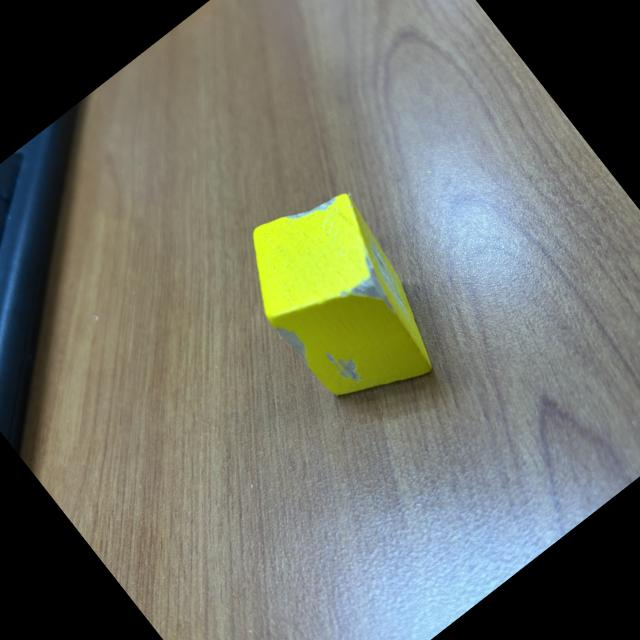broken: (218, 169, 466, 432)
